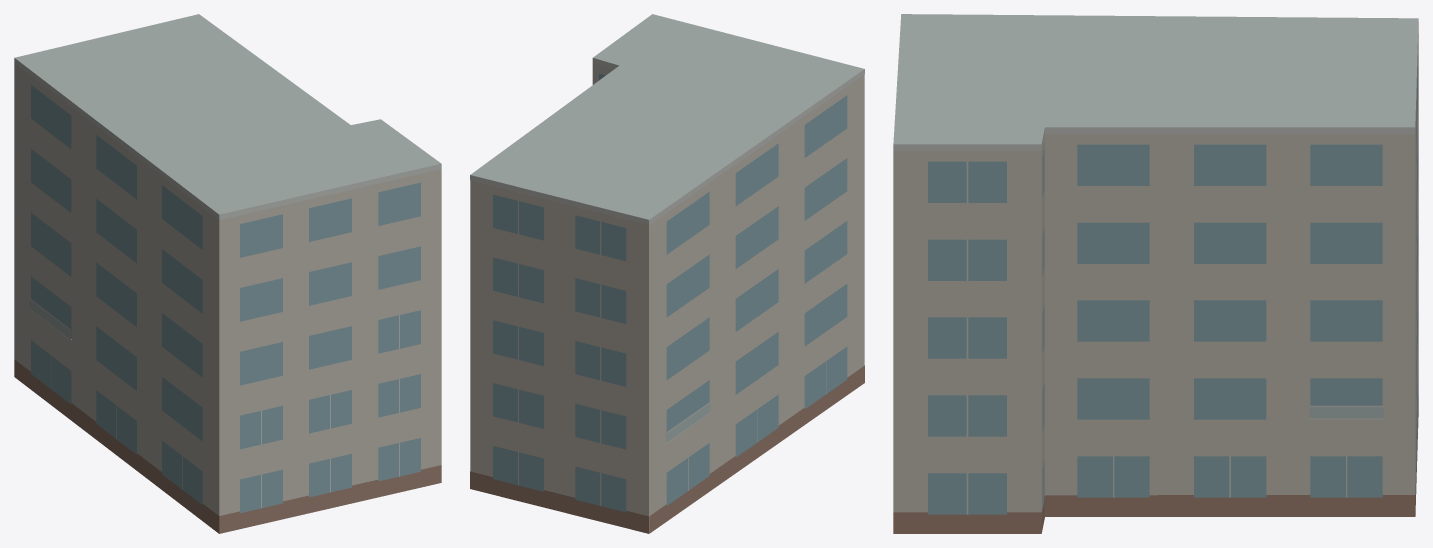
Rendered from survey-upis-32934700.glb.
3 views of the same model, side by side, from view 1: azimuth 30°, elevation 25°; view 2: azimuth 150°, elevation 25°; view 3: azimuth 270°, elevation 25° (orthographic). The views are drawn at different scales.
Parts seen in each view (by area): view 1: survey-upis-32934700.tmp; view 2: survey-upis-32934700.tmp; view 3: survey-upis-32934700.tmp.
Part boxes in pixels (box(x1,y1,x2,y2)): survey-upis-32934700.tmp: box(14, 14, 441, 533); survey-upis-32934700.tmp: box(470, 14, 864, 533); survey-upis-32934700.tmp: box(893, 14, 1418, 533).
Size of the model in its own units: 10.36 by 14.4 by 17.61.
